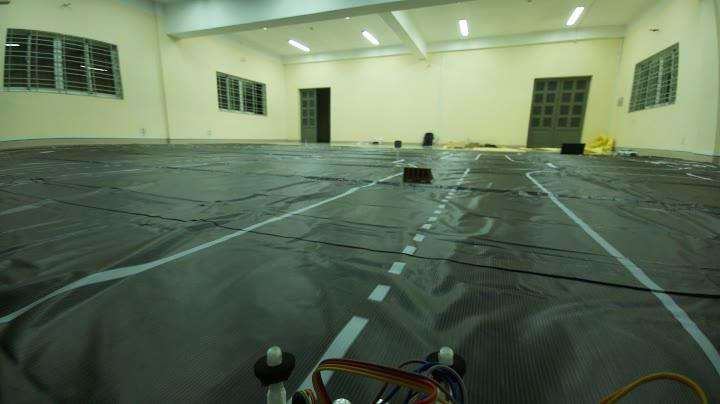roadblock: (402, 162, 437, 190)
